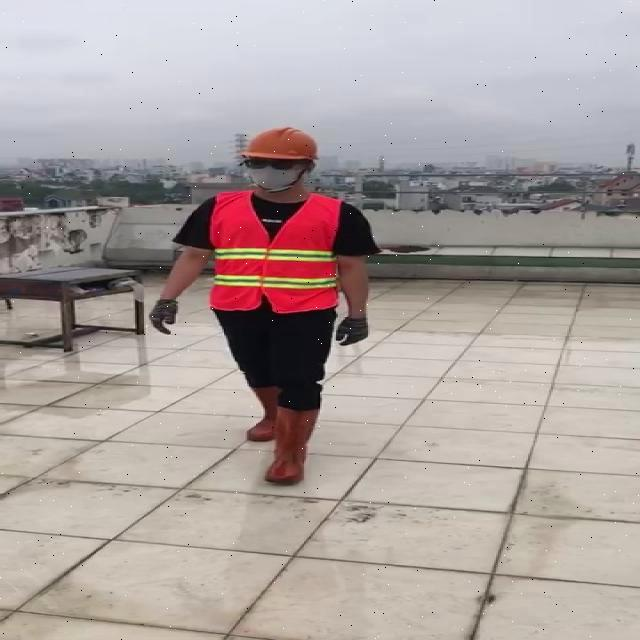Hard_hat: (236, 124, 325, 172)
Vest: (207, 187, 343, 314)
